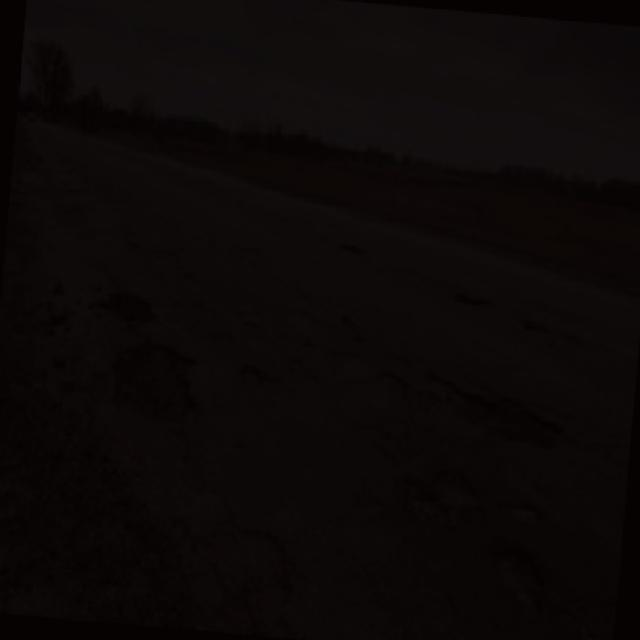Pothole: (403, 360, 588, 464), (103, 332, 218, 438), (264, 281, 372, 385), (207, 514, 307, 604), (388, 464, 500, 530), (482, 546, 554, 617), (93, 276, 169, 328), (504, 504, 552, 532)
